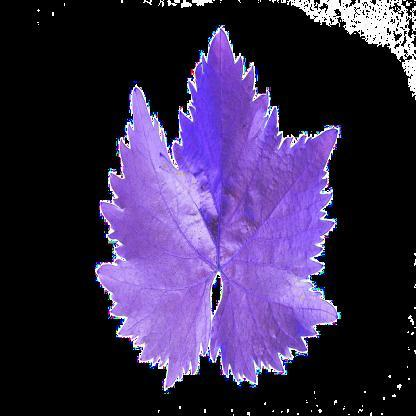grape leaf black rot: (72, 30, 356, 392)
